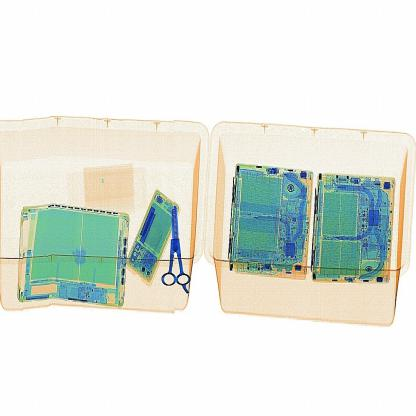gun: (158, 195, 202, 293)
